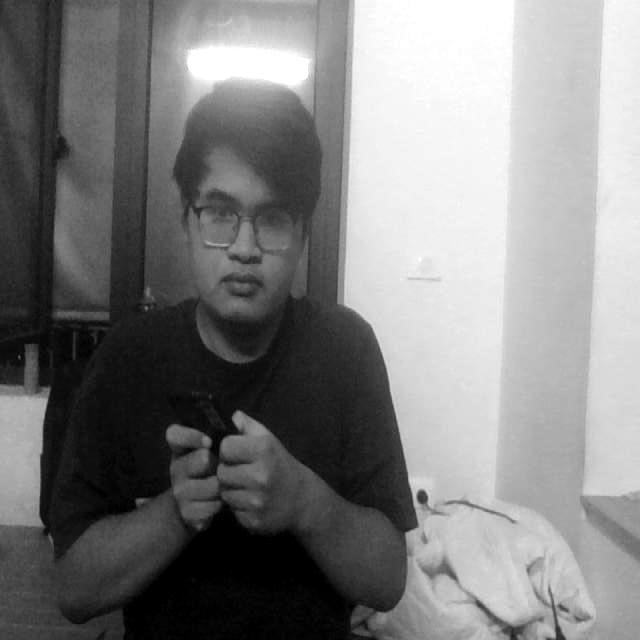phone: (168, 381, 248, 476)
